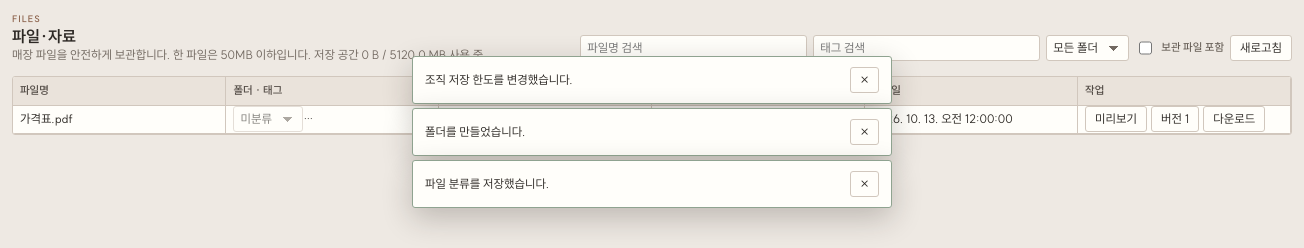
Scenario: FilePage › 파일 태그로 목록을 검색한다
The image size is (1304, 248).
Expected: the text "가격표.pdf" is shown, [13,105,226,134]
In the field labelled "태그 검색": (927, 48) [813,35,1040,61], type "전후"
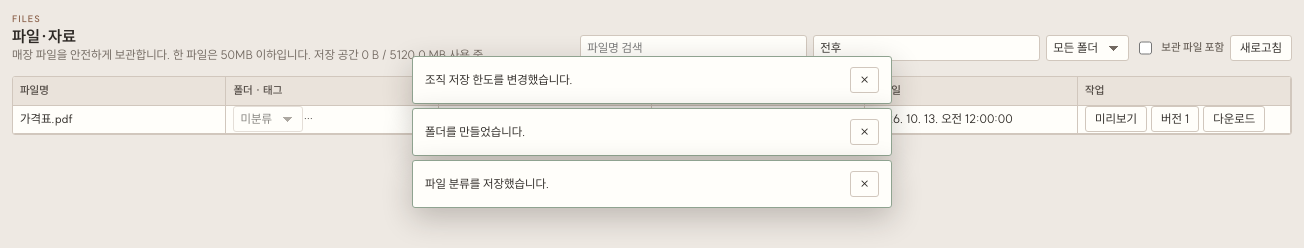
Expected: the text "가격표.pdf" is shown, [13,105,226,134]
Replace the text in the field named "태그 검색" with "동의서": (927, 48) [813,35,1040,61]
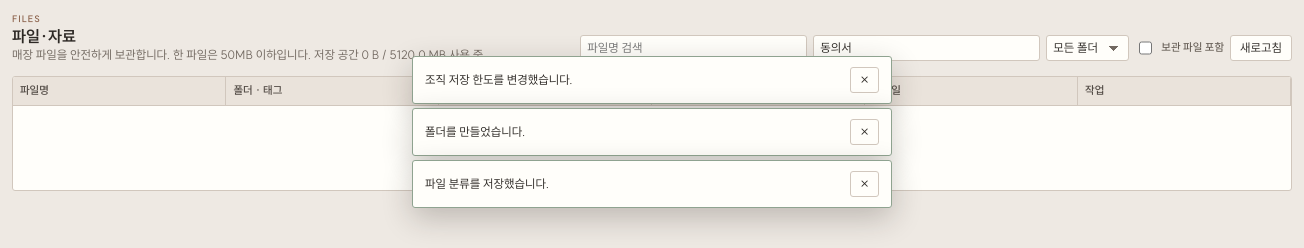
Expected: the text "가격표.pdf" is gone
